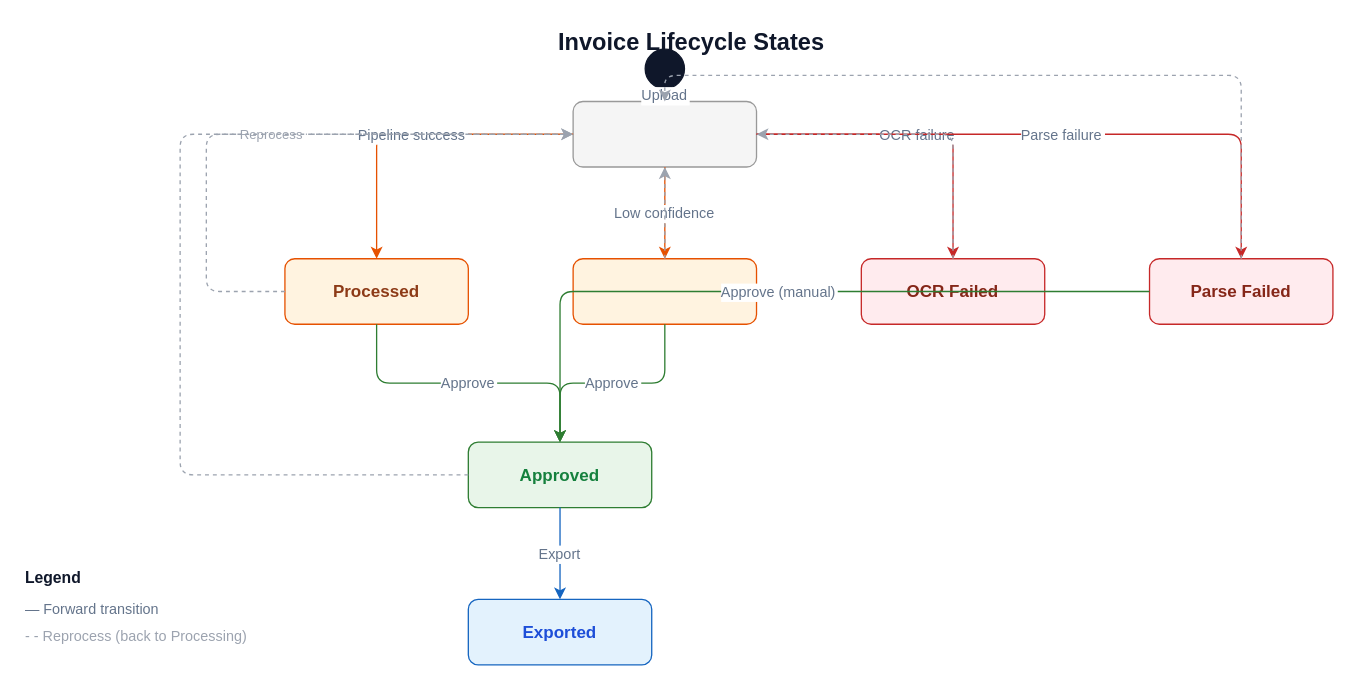
Image size: 1356x688. Some labels were removed from this diagram. Here are the shapes that lost their labels. From the top down, the box of each, then its label:
(572, 100, 757, 167): Processing
(572, 257, 757, 324): Needs Review
